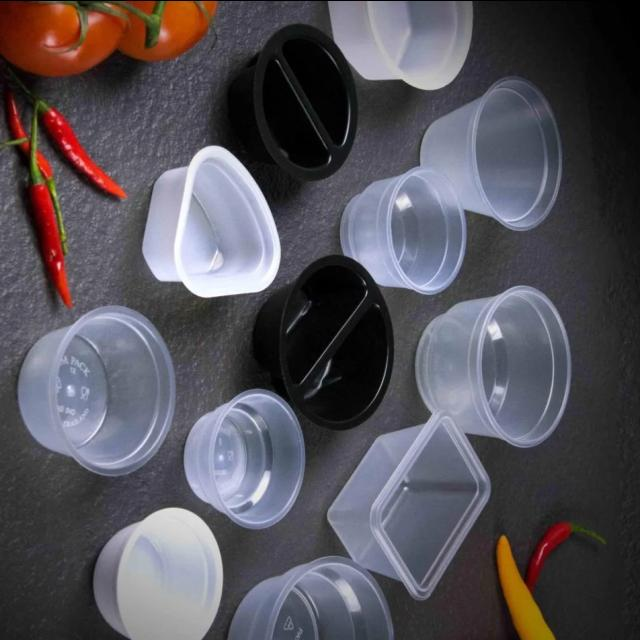plastik: (328, 411, 491, 599), (18, 305, 176, 474), (416, 285, 571, 446), (254, 255, 393, 429), (420, 76, 562, 230), (143, 144, 281, 297), (229, 22, 357, 180), (93, 507, 223, 640), (184, 389, 305, 528), (340, 165, 466, 294), (228, 555, 393, 640), (329, 0, 472, 89)
